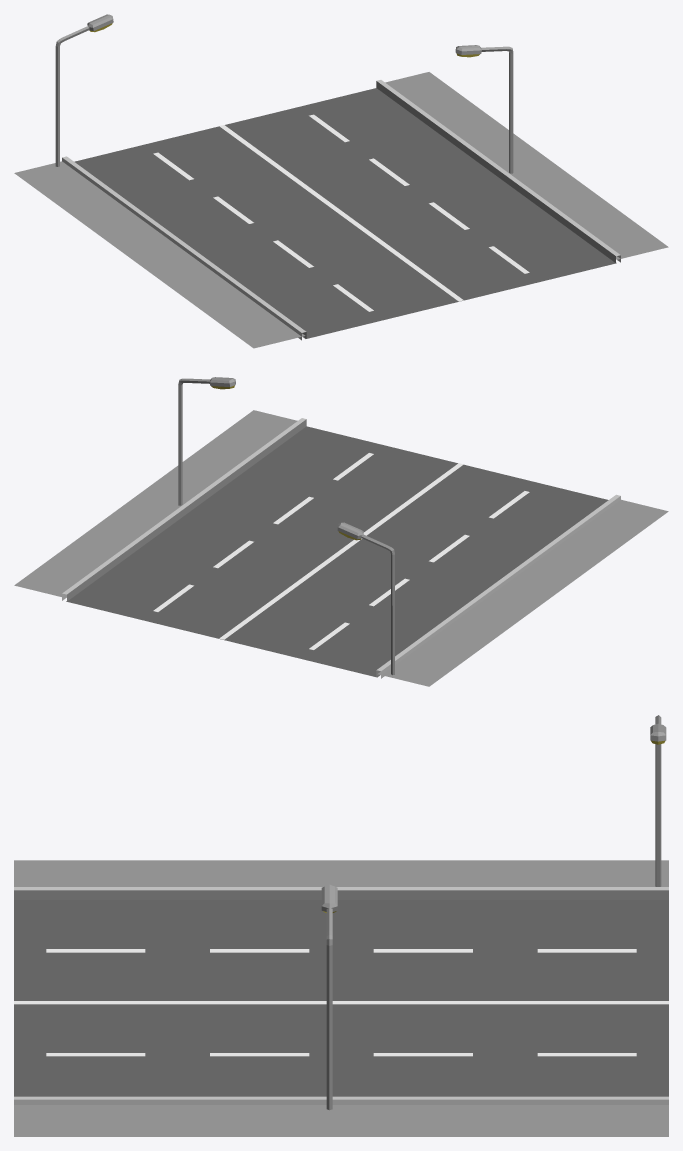
File: SM_Road1.fbx
3 views of the same model, one above another, from view 1: azimuth 30°, elevation 25°; view 2: azimuth 150°, elevation 25°; view 3: azimuth 270°, elevation 25° (orthographic). The views are drawn at different scales.
Visible parts, largest first — view 1: polySurface598; view 2: polySurface598; view 3: polySurface598.
Part boxes in pixels (x1,y1,x2,y2): polySurface598: (14, 14, 668, 348); polySurface598: (14, 377, 668, 686); polySurface598: (14, 715, 668, 1136).
Size of the model in its own units: 560 by 184 by 560.
